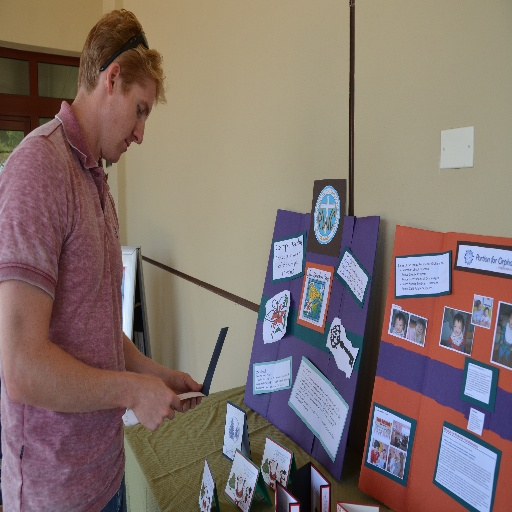hand: (110, 332, 185, 439), (161, 367, 205, 412)
